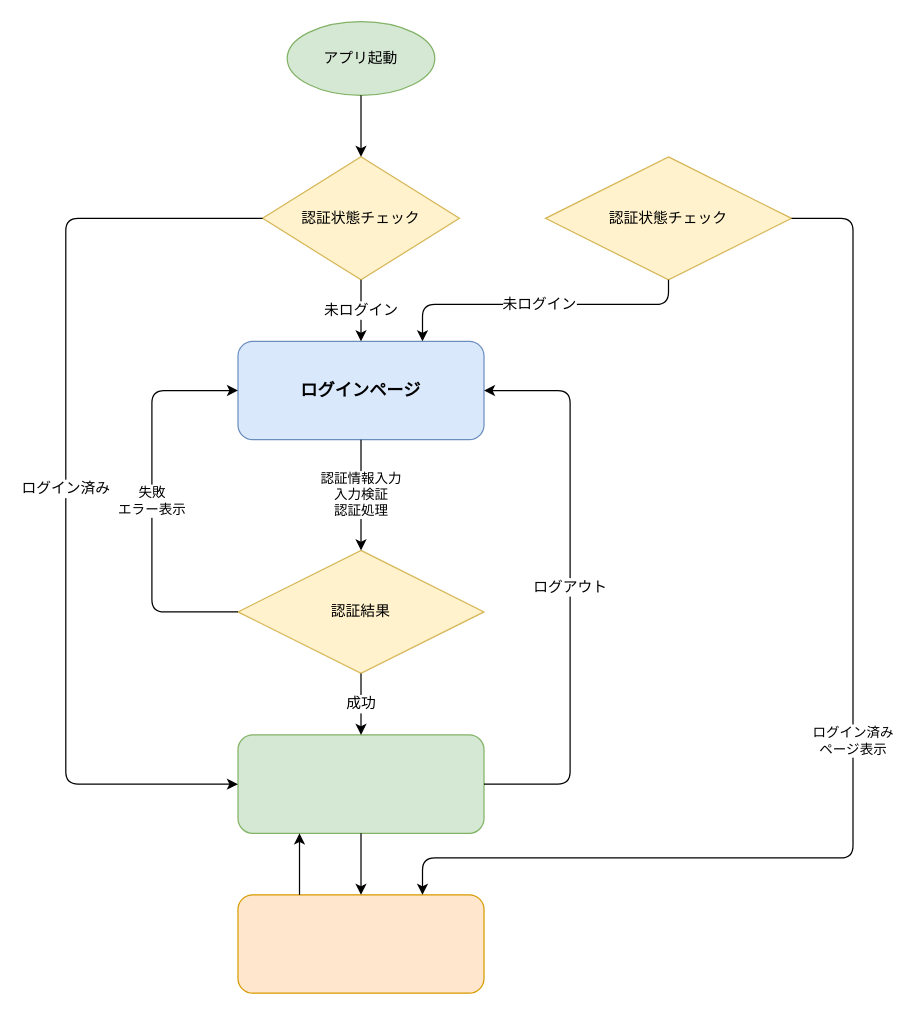
This 914x1015 diagram has some shape labels left out. Each missing label, with the box of its shape:
ダッシュボード: (237, 734, 484, 833)
保護されたページ: (237, 894, 484, 993)
